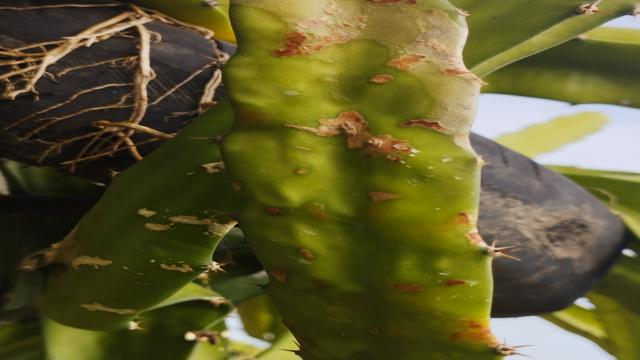stemcanker: (236, 166, 496, 348)
